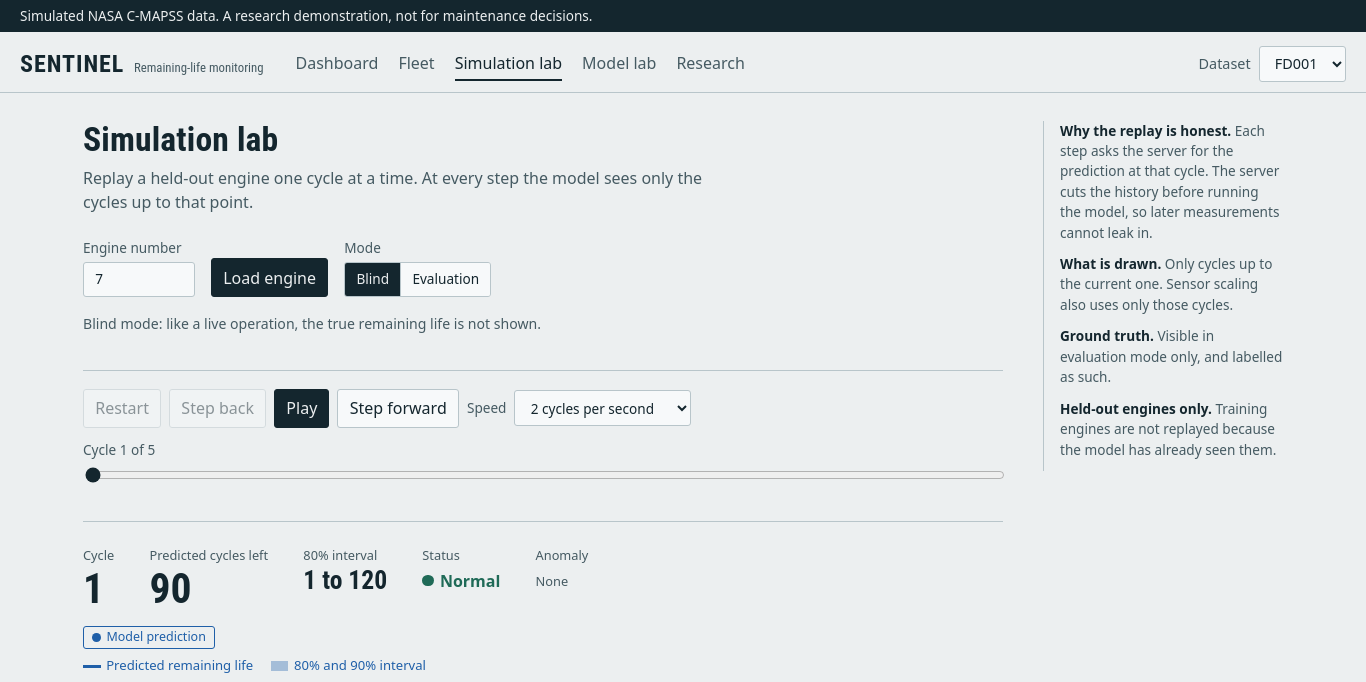
it: simulation lab › plays automatically, stops at the end, and can restart
The width and height of the screenshot is (1366, 682).
Expected: the text "Cycle 1 of 5" is shown, x1=83 y1=440 x2=1003 y2=485
Click the button "Play" at (302, 408), box x1=274 y1=389 x2=330 y2=428
Wait 600 ms
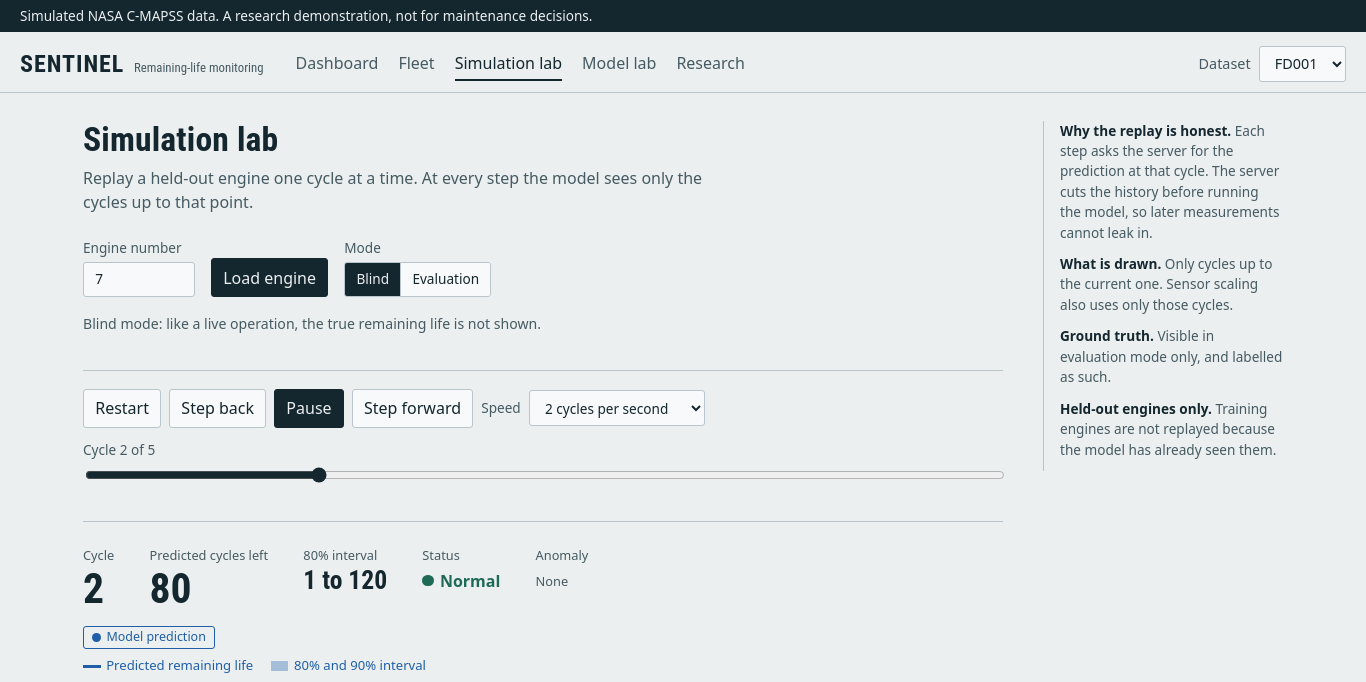
Expected: the button "Pause" is shown
Expected: the text "Cycle 2 of 5" is shown, x1=83 y1=440 x2=1003 y2=485
Click the button "Pause" at (309, 408), box x1=274 y1=389 x2=344 y2=428
Wait 3000 ms
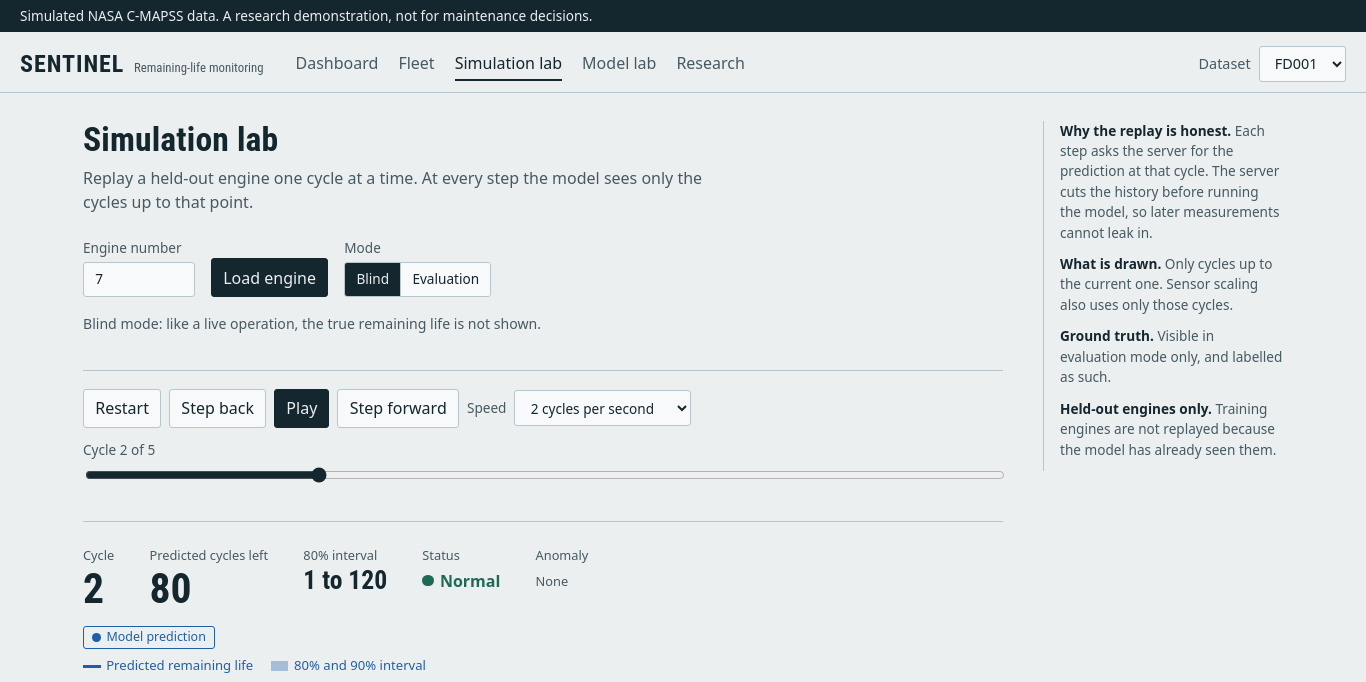
Expected: the text "Cycle 2 of 5" is shown, x1=83 y1=440 x2=1003 y2=485
Click the button "Play" at (302, 408), box x1=274 y1=389 x2=330 y2=428
Wait 3600 ms
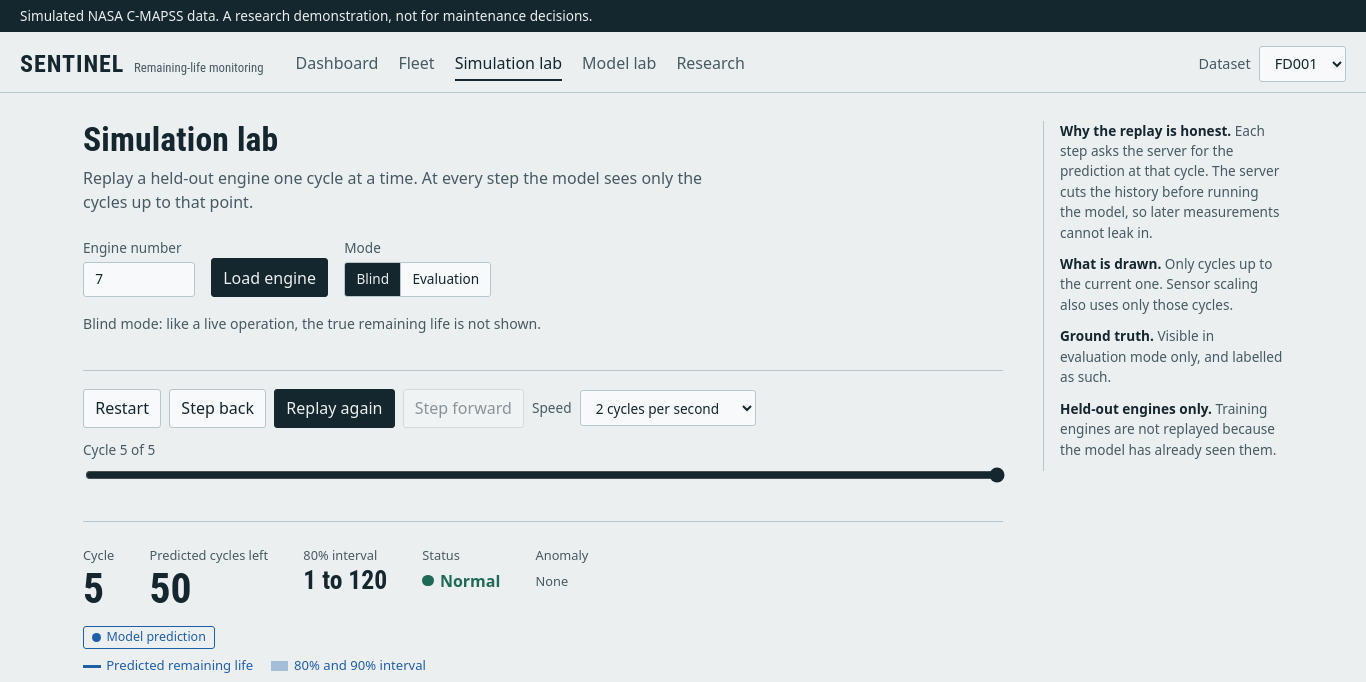
Expected: the text "Cycle 5 of 5" is shown, x1=83 y1=440 x2=1003 y2=485
Expected: the button "Replay again" is shown, x1=274 y1=389 x2=395 y2=428
Click the button "Restart" at (122, 408), box x1=83 y1=389 x2=161 y2=428
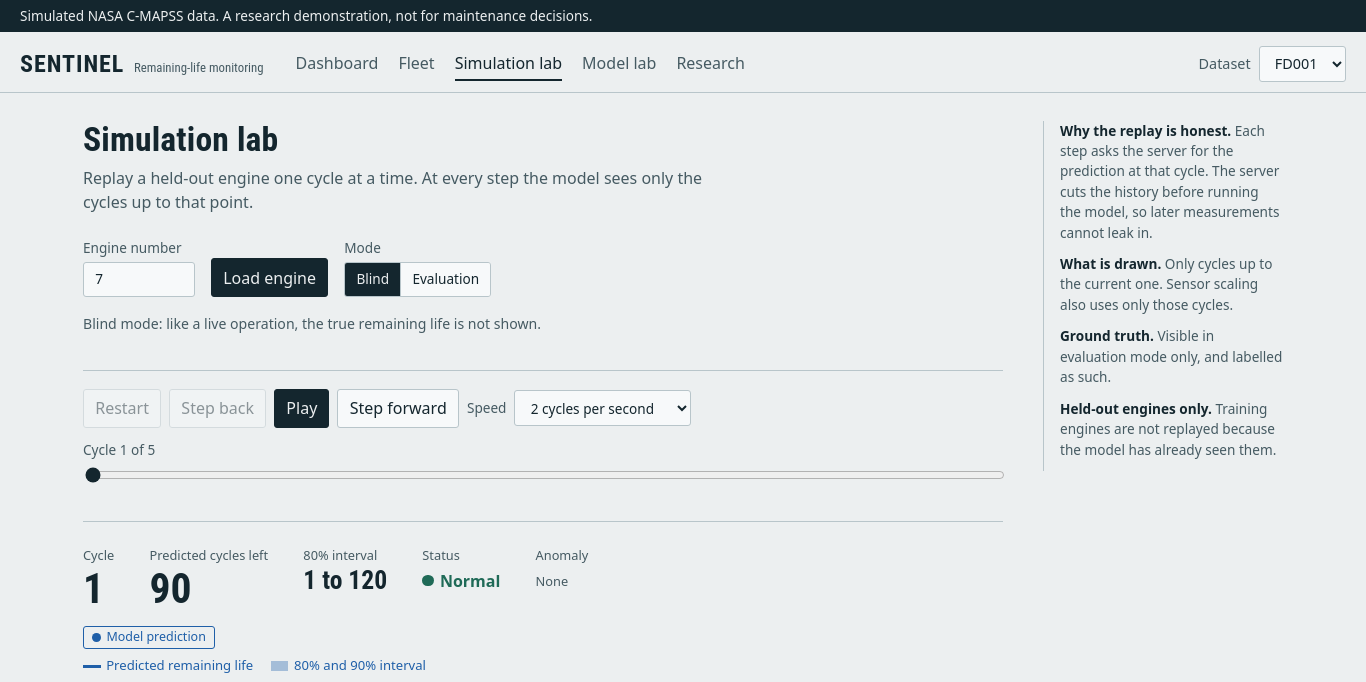
Expected: the text "Cycle 1 of 5" is shown, x1=83 y1=440 x2=1003 y2=485
